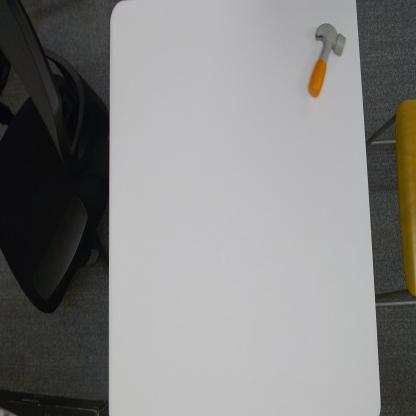Hammer: (307, 22, 346, 97)
